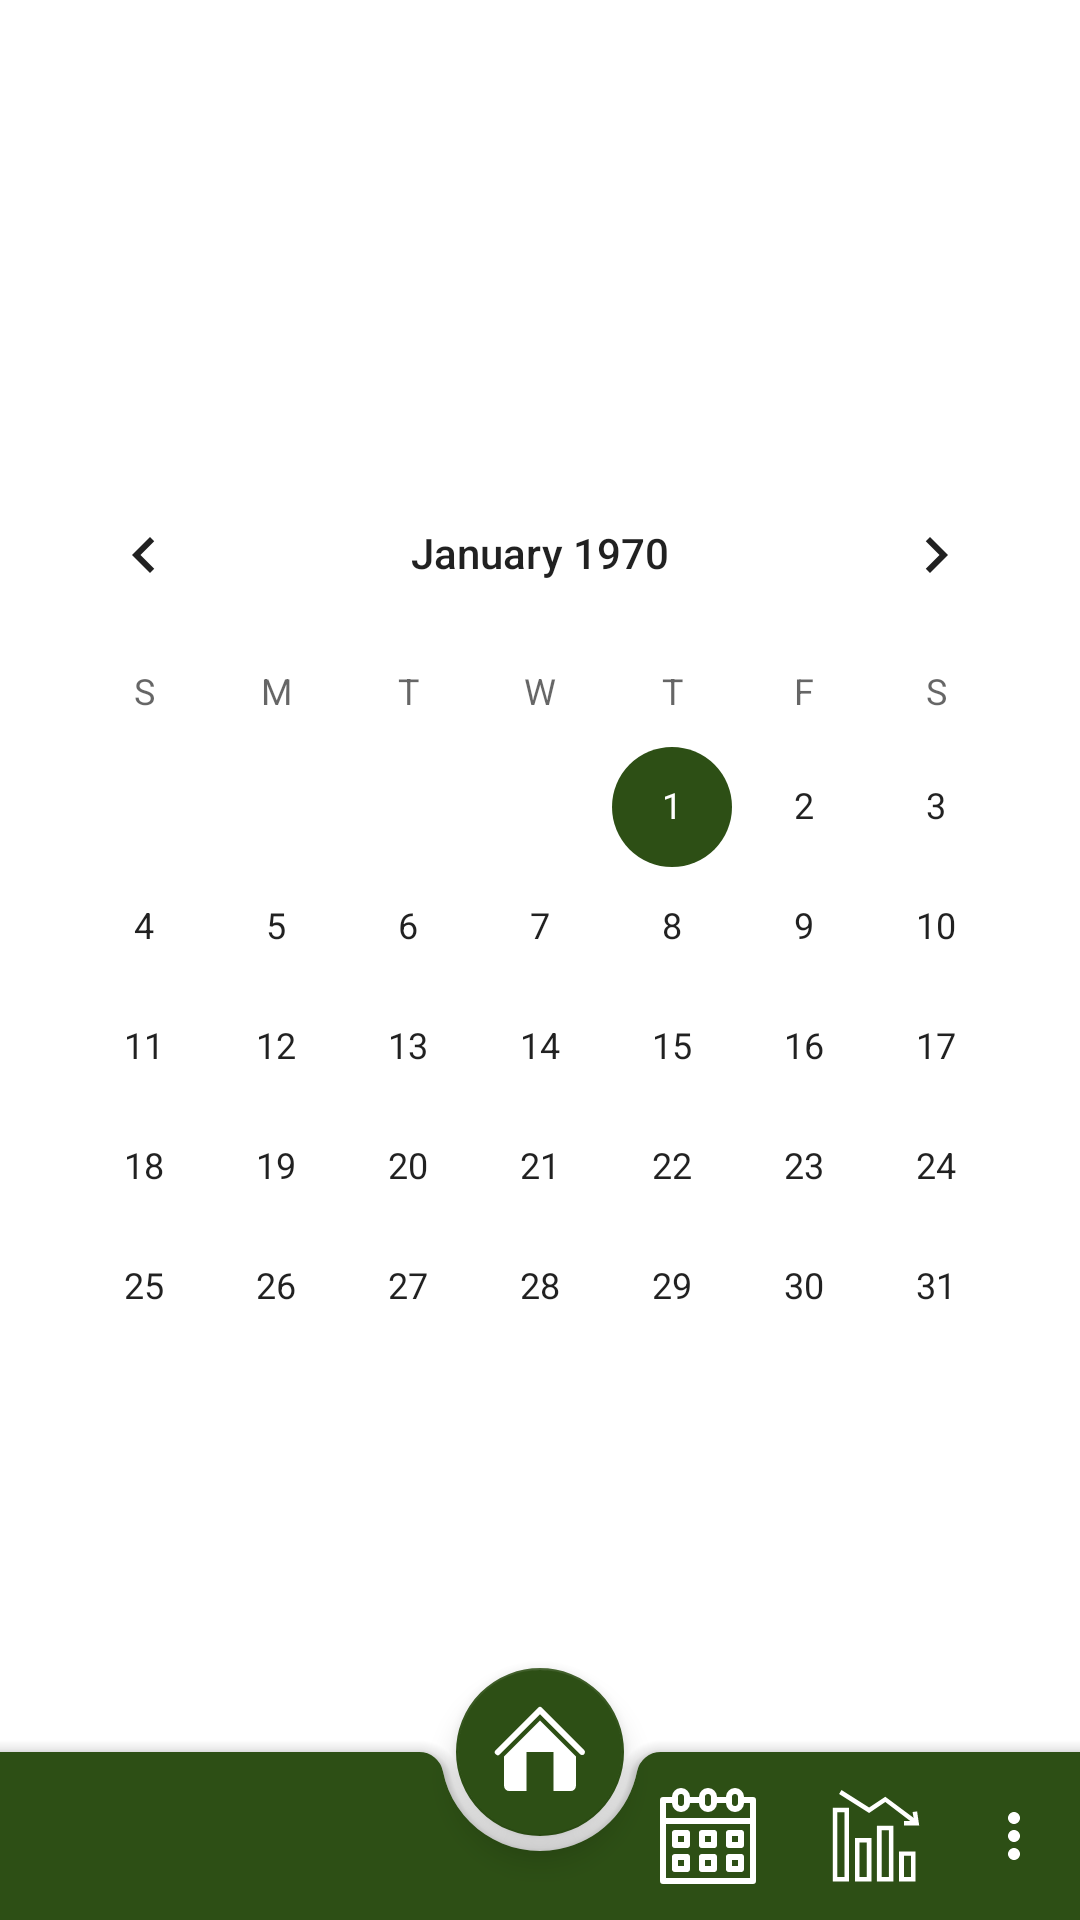

Named icons in this screenshot (1080 x 1920) and their centers, point (x, y):
noun home: point (540, 1752)
